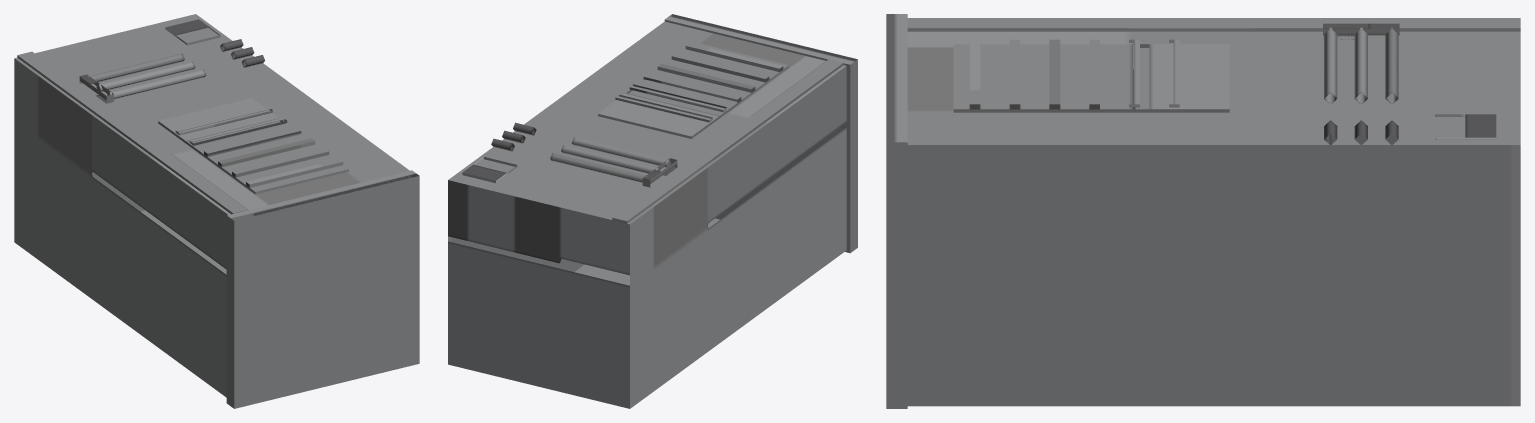
3 views of the same model, side by side, from view 1: azimuth 30°, elevation 25°; view 2: azimuth 150°, elevation 25°; view 3: azimuth 270°, elevation 25° (orthographic). The views are drawn at different scales.
Bounding box in the file's own units: 0.99 × 0.992 × 2.07.
